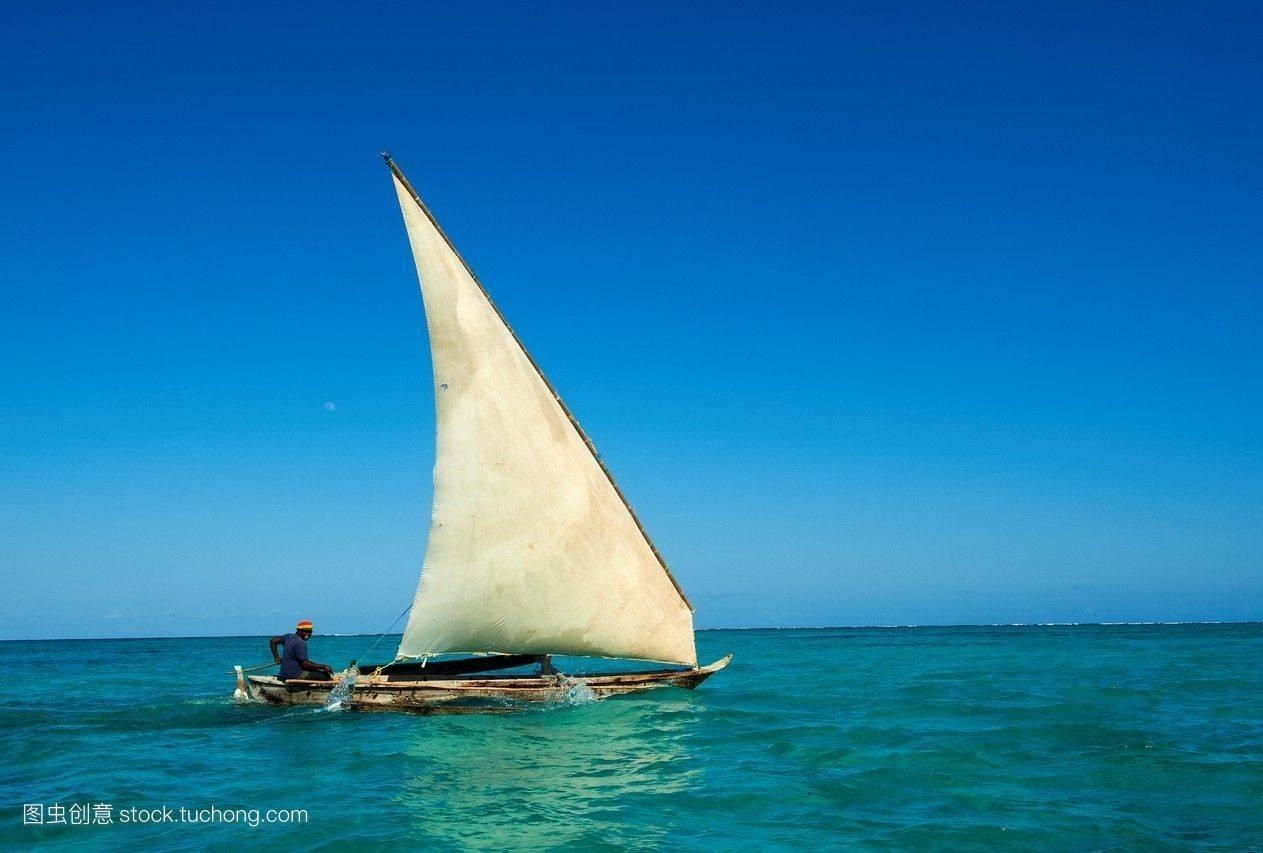fanchuan: (238, 145, 744, 715)
person: (257, 617, 350, 703)
